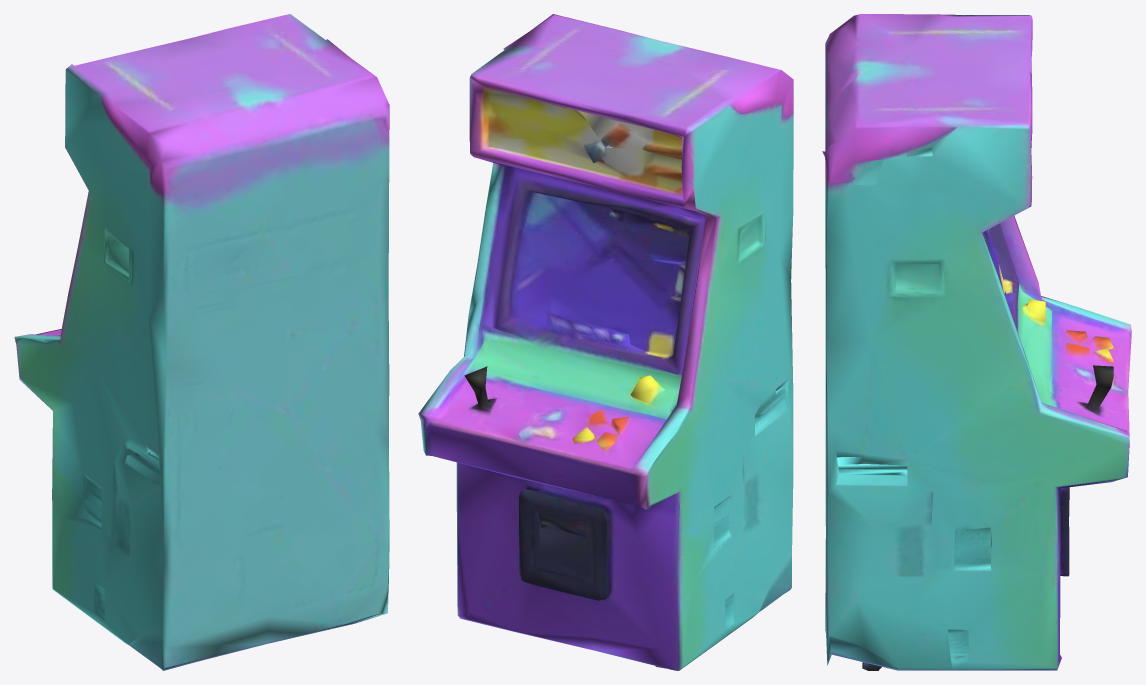
File: shop-games.glb
3 views of the same model, side by side, from view 1: azimuth 30°, elevation 25°; view 2: azimuth 150°, elevation 25°; view 3: azimuth 270°, elevation 25° (orthographic). The views are drawn at different scales.
Visible parts, largest first — view 1: tripo_node_a48c7ef3-df87-4ce6-90f4-1d5bec8131e6; view 2: tripo_node_a48c7ef3-df87-4ce6-90f4-1d5bec8131e6; view 3: tripo_node_a48c7ef3-df87-4ce6-90f4-1d5bec8131e6.
Boxes of the visible parts, x1,y1,x2,y2 form: tripo_node_a48c7ef3-df87-4ce6-90f4-1d5bec8131e6: (14, 14, 389, 670); tripo_node_a48c7ef3-df87-4ce6-90f4-1d5bec8131e6: (418, 14, 793, 670); tripo_node_a48c7ef3-df87-4ce6-90f4-1d5bec8131e6: (822, 14, 1131, 670).
Size of the model in its own units: 0.7979 by 1.8 by 0.903.
1 material, 1 textured.
